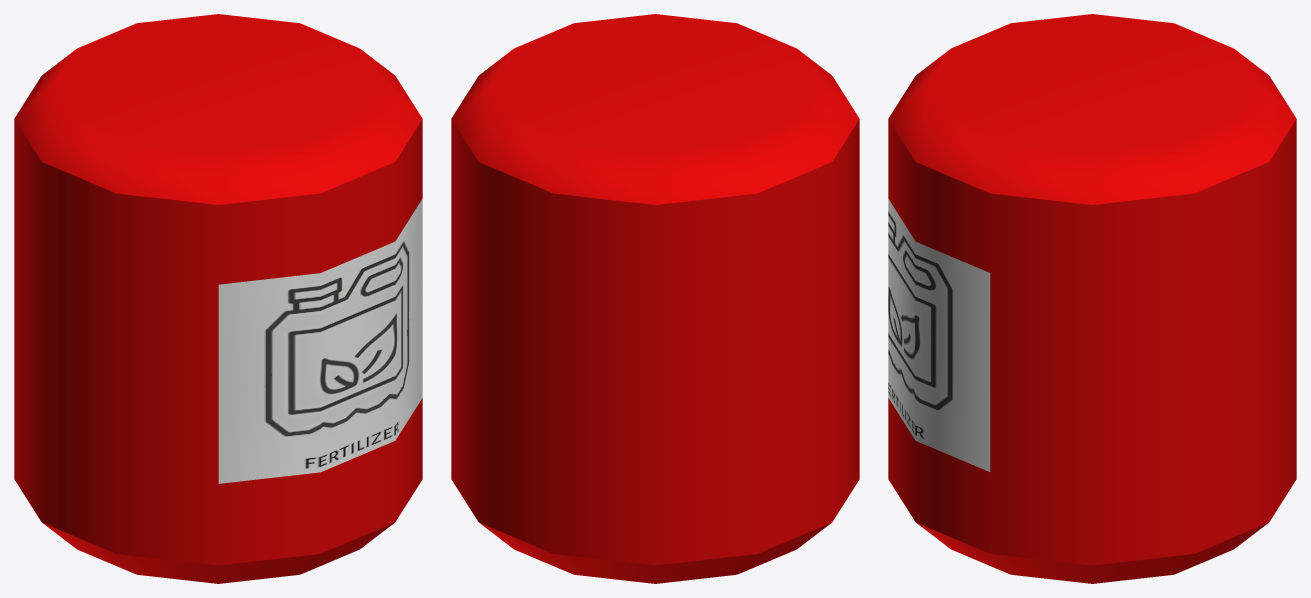
File: Fertilizer tank.fbx
The picture shows the model from 3 angles, left to right: view 1: azimuth 30°, elevation 25°; view 2: azimuth 150°, elevation 25°; view 3: azimuth 270°, elevation 25°; orthographic projection.
Visible parts, largest first — view 1: pCylinder4; view 2: pCylinder4; view 3: pCylinder4.
Part boxes in pixels (left/top/right/bottom): pCylinder4: left=14, top=14, right=422, bottom=583; pCylinder4: left=451, top=14, right=859, bottom=583; pCylinder4: left=888, top=14, right=1296, bottom=583.
Size of the model in its own units: 247 by 289 by 247.
2 materials, 1 textured.
